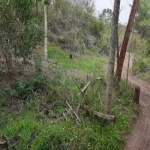Forest: (2, 1, 124, 126)
